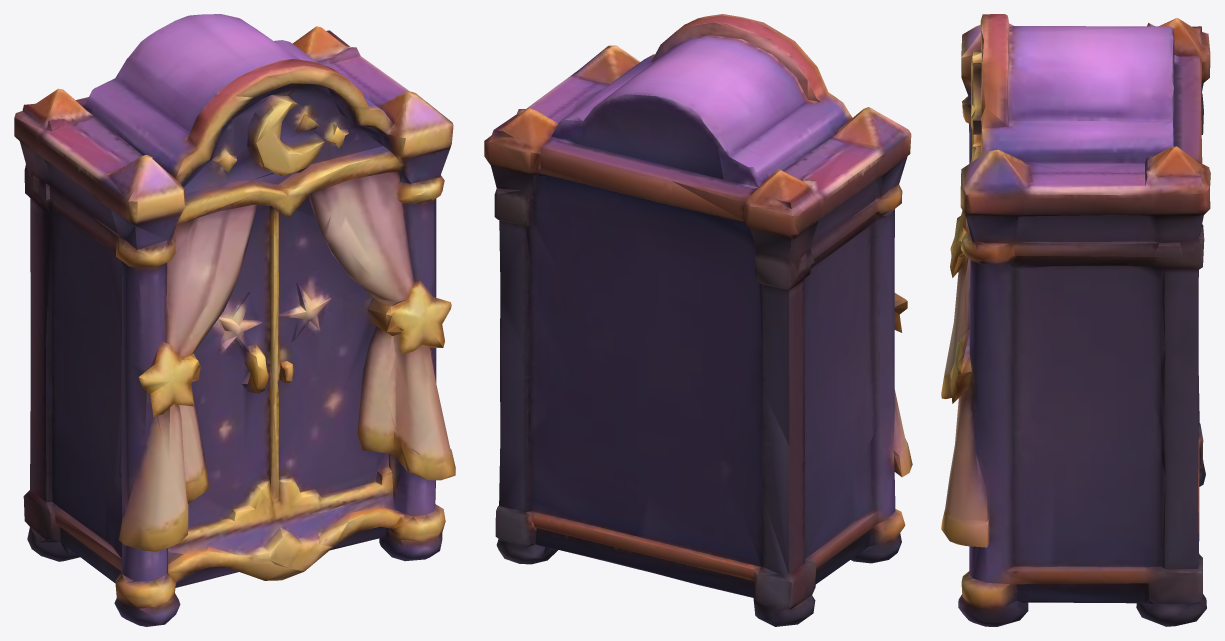
File: cabinet03.glb
The picture shows the model from 3 angles, left to right: view 1: azimuth 30°, elevation 25°; view 2: azimuth 150°, elevation 25°; view 3: azimuth 270°, elevation 25°; orthographic projection. The views are drawn at different scales.
Size of the model in its own units: 0.2031 by 0.3059 by 0.141.
Materials: 1 (1 with a texture image).
